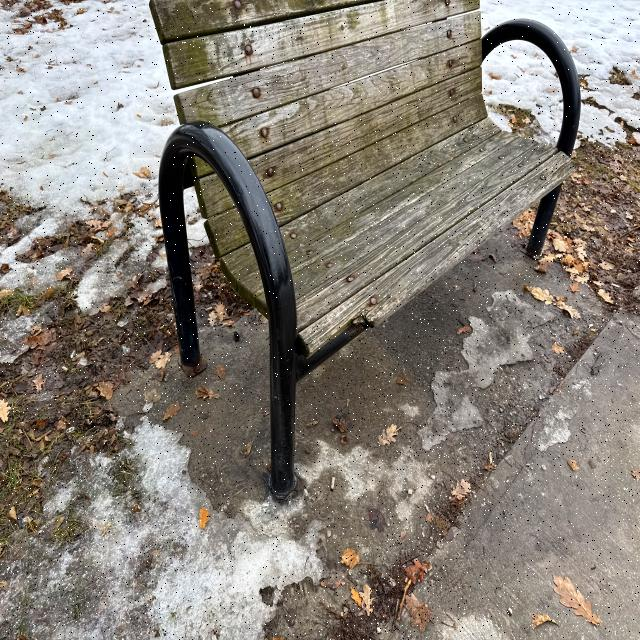Bench: (147, 10, 473, 472)
